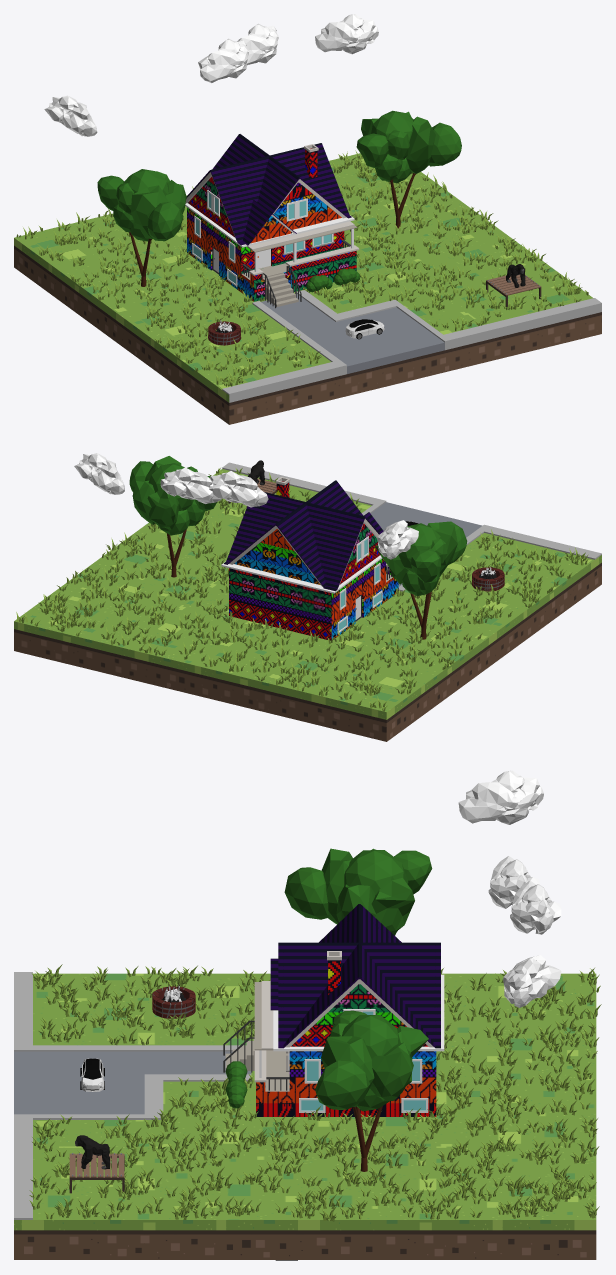
3 renders of one model, top to bottom at view 1: azimuth 30°, elevation 25°; view 2: azimuth 150°, elevation 25°; view 3: azimuth 270°, elevation 25°, orthographic. The views are drawn at different scales.
Parts seen in each view (by area): view 1: Cube.006, Cube.966, Circle.012_Grass_0.192, Cube.007, tree, tree.001, Cube.009, OBJRANDOM_CAMPFIRE, VEHICLES_TESLA; view 2: Cube.006, Cube.966, Circle.012_Grass_0.192, Cube.007, tree.001, tree, OBJRANDOM_CAMPFIRE; view 3: Cube.006, Circle.012_Grass_0.192, Cube.966, tree, Cube.007, tree.001, Cube.009, OBJRANDOM_CAMPFIRE, VEHICLES_TESLA, ANIMAL_GORILA.
Boxes of the visible parts, x1,y1,x2,y2 form: Cube.006: (14,153,601,424); Cube.966: (185,134,359,308); Circle.012_Grass_0.192: (16,150,588,386); Cube.007: (44,14,378,136); tree: (356,110,461,228); tree.001: (97,169,186,286); Cube.009: (486,274,541,306); OBJRANDOM_CAMPFIRE: (208,319,241,345); VEHICLES_TESLA: (345,319,384,339); Cube.006: (14,462,601,741); Cube.966: (221,477,398,640); Circle.012_Grass_0.192: (16,468,588,711); Cube.007: (74,453,418,559); tree.001: (375,521,467,639); tree: (129,456,216,577); OBJRANDOM_CAMPFIRE: (472,567,504,591); Cube.006: (14,972,596,1259); Circle.012_Grass_0.192: (29,964,601,1221); Cube.966: (223,904,444,1116); tree: (315,1010,428,1171); Cube.007: (458,770,561,1007); tree.001: (284,848,432,935); Cube.009: (69,1153,124,1193); OBJRANDOM_CAMPFIRE: (152,984,195,1018); VEHICLES_TESLA: (80,1058,104,1091); ANIMAL_GORILA: (75,1135,109,1169).
Size of the model in its own units: 4071 by 2184 by 4040.
36 materials, 7 textured.
